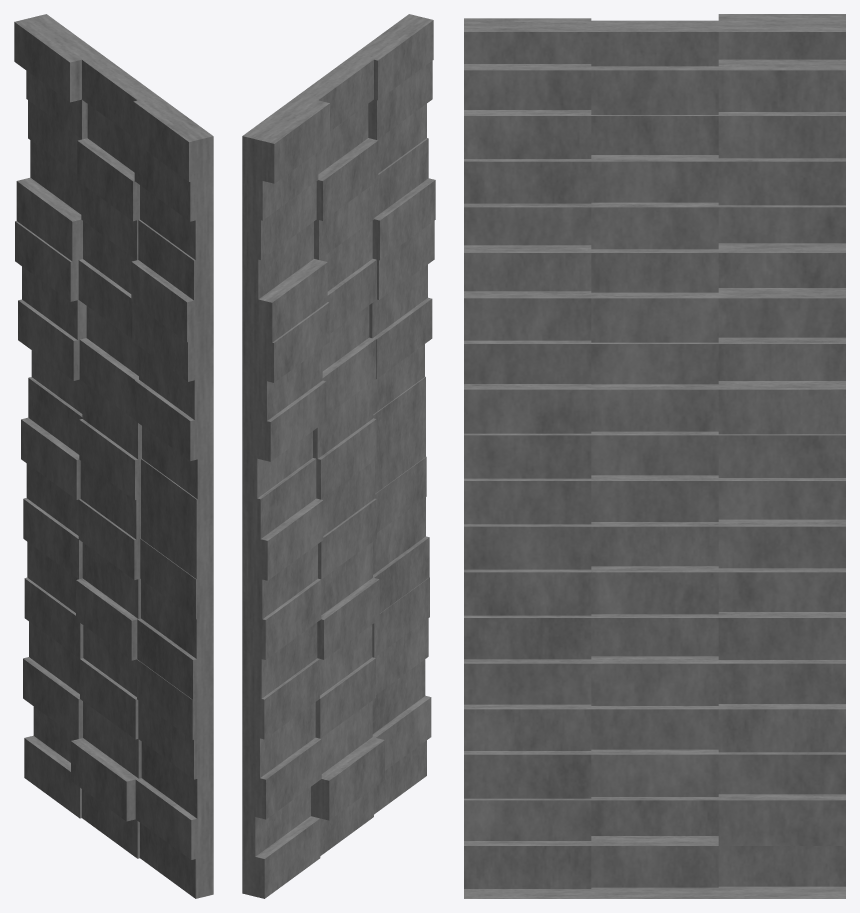
Rendered from RockWall.fbx.
The picture shows the model from 3 angles, left to right: view 1: azimuth 30°, elevation 25°; view 2: azimuth 150°, elevation 25°; view 3: azimuth 270°, elevation 25°; orthographic projection. The views are drawn at different scales.
Visible parts, largest first — view 1: RockWall; view 2: RockWall; view 3: RockWall.
Boxes of the visible parts, box(x1,y1,x2,y2) form: RockWall: box(14, 14, 213, 898); RockWall: box(242, 14, 435, 898); RockWall: box(464, 14, 845, 898).
Size of the model in its own units: 0.143 by 3.22 by 1.29.
